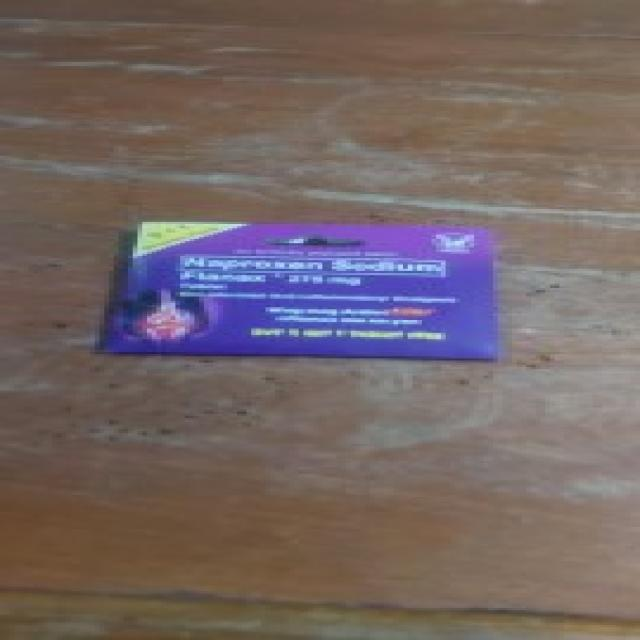Cacat: (91, 222, 507, 358)
